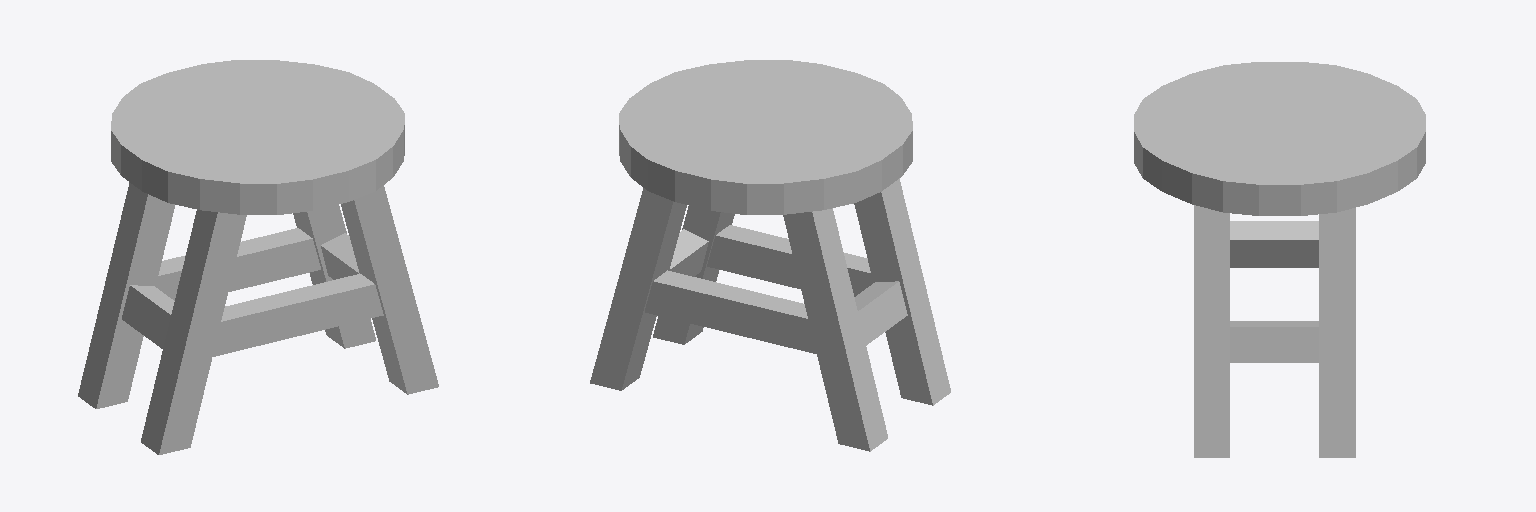
Rendered from StoolTextured.obj.
The picture shows the model from 3 angles: view 1: azimuth 30°, elevation 25°; view 2: azimuth 150°, elevation 25°; view 3: azimuth 270°, elevation 25°; orthographic projection.
Parts seen in each view (by area): view 1: Cube, Cube.002, Cube.001, Cube.005, Cube.006, Cube.009, Cube.003, Cube.007, Cube.008; view 2: Cube, Cube.001, Cube.002, Cube.003, Cube.009, Cube.006, Cube.005, Cube.007, Cube.008; view 3: Cube, Cube.003, Cube.005, Cube.007, Cube.008.
Boxes of the visible parts, x1=… form: Cube: x1=111, y1=60, x2=404, y2=214; Cube.002: x1=141, y1=210, x2=246, y2=454; Cube.001: x1=78, y1=182, x2=174, y2=408; Cube.005: x1=341, y1=185, x2=438, y2=394; Cube.006: x1=213, y1=274, x2=383, y2=356; Cube.009: x1=156, y1=228, x2=320, y2=300; Cube.003: x1=293, y1=205, x2=375, y2=348; Cube.007: x1=122, y1=285, x2=174, y2=348; Cube.008: x1=321, y1=233, x2=359, y2=279; Cube: x1=619, y1=60, x2=912, y2=214; Cube.001: x1=783, y1=208, x2=887, y2=451; Cube.002: x1=854, y1=178, x2=950, y2=405; Cube.003: x1=590, y1=188, x2=686, y2=390; Cube.009: x1=645, y1=270, x2=816, y2=353; Cube.006: x1=707, y1=225, x2=872, y2=296; Cube.005: x1=653, y1=206, x2=734, y2=344; Cube.007: x1=855, y1=281, x2=907, y2=345; Cube.008: x1=669, y1=229, x2=708, y2=276; Cube: x1=1134, y1=62, x2=1425, y2=215; Cube.003: x1=1319, y1=208, x2=1355, y2=457; Cube.005: x1=1194, y1=205, x2=1229, y2=457; Cube.007: x1=1230, y1=221, x2=1318, y2=267; Cube.008: x1=1230, y1=321, x2=1318, y2=362.
Bounding box in the file's own units: 17.67 × 16.09 × 15.89.